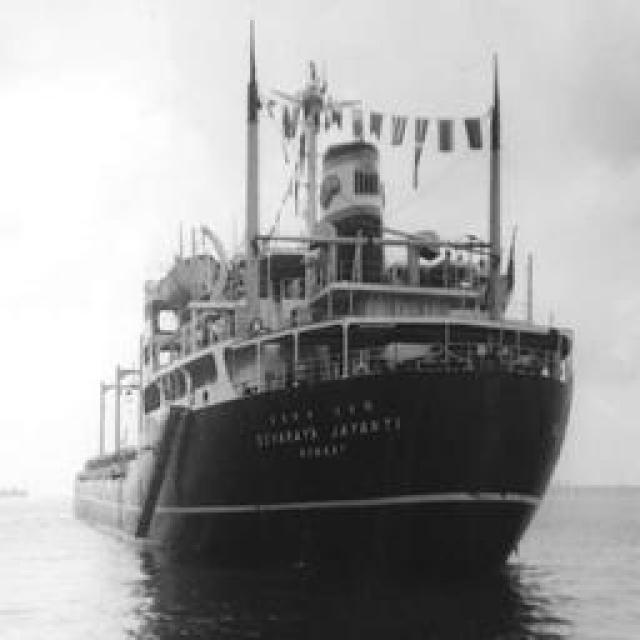Ship: (102, 48, 580, 573)
